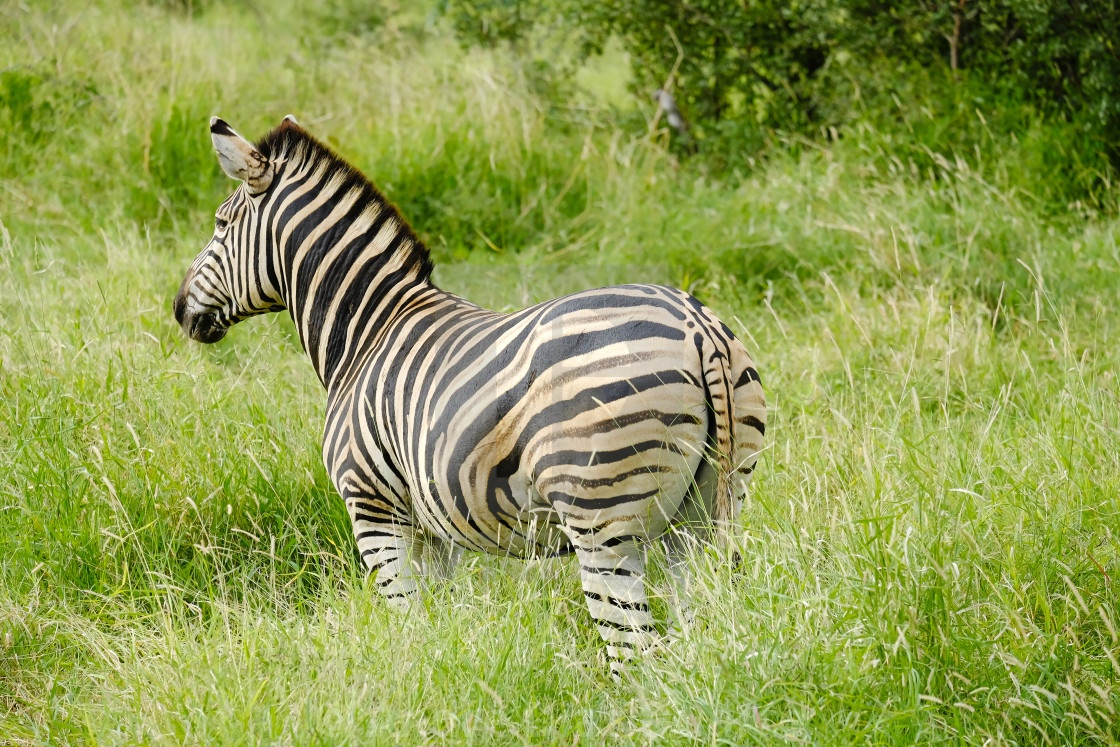zebra: (166, 113, 768, 701)
